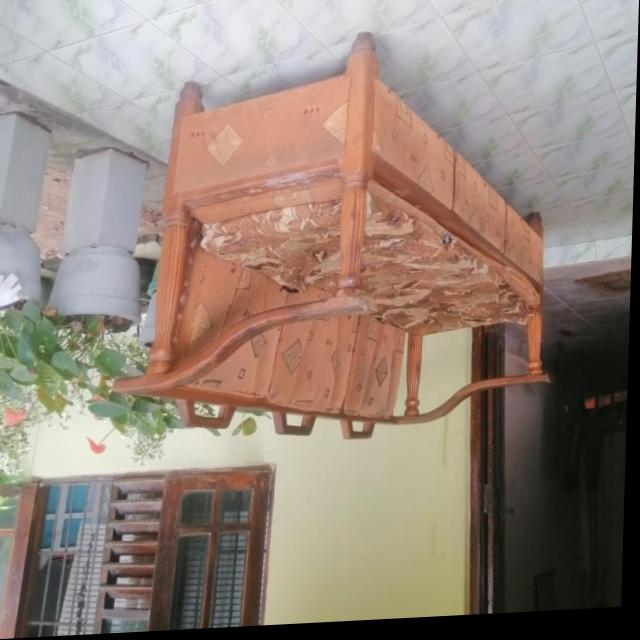Sofa: (114, 32, 563, 455)
